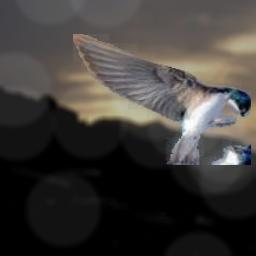Swallow: (73, 34, 251, 165)
